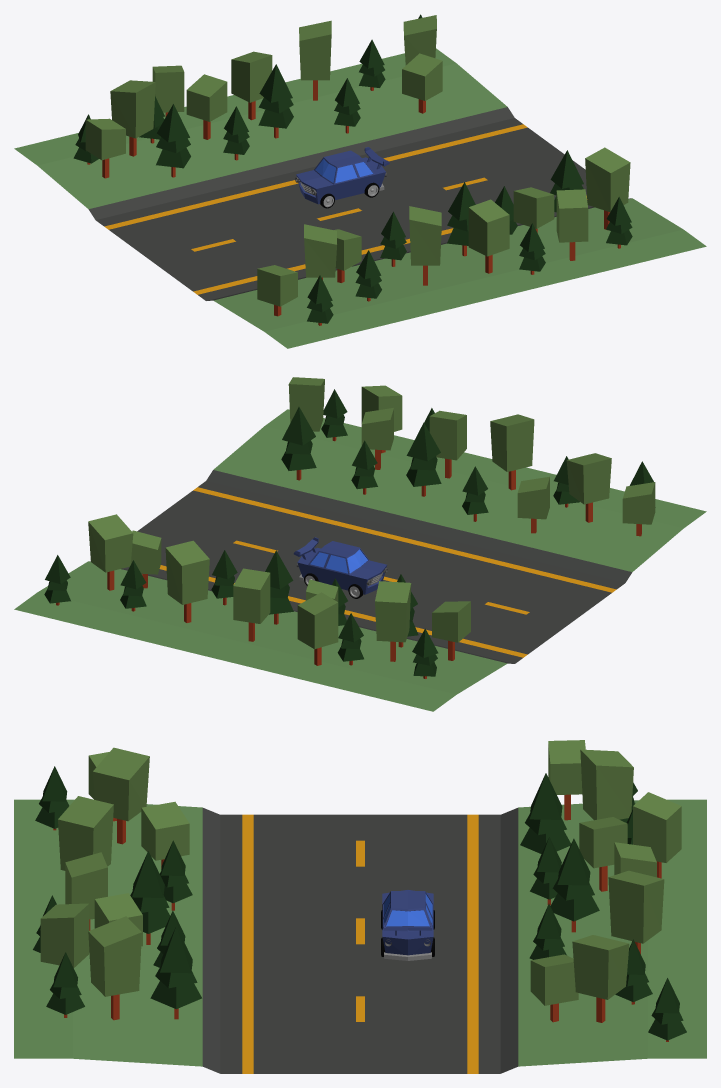
File: carmodel.glb
3 views of the same model, one above another, from view 1: azimuth 30°, elevation 25°; view 2: azimuth 150°, elevation 25°; view 3: azimuth 270°, elevation 25° (orthographic). The views are drawn at different scales.
Parts seen in each view (by area): view 1: baked; view 2: baked; view 3: baked.
Boxes of the visible parts, bbox=[...] form: baked: bbox=[14, 14, 706, 348]; baked: bbox=[14, 377, 706, 711]; baked: bbox=[14, 740, 706, 1073].
Size of the model in its own units: 33.34 by 6.59 by 37.68.
